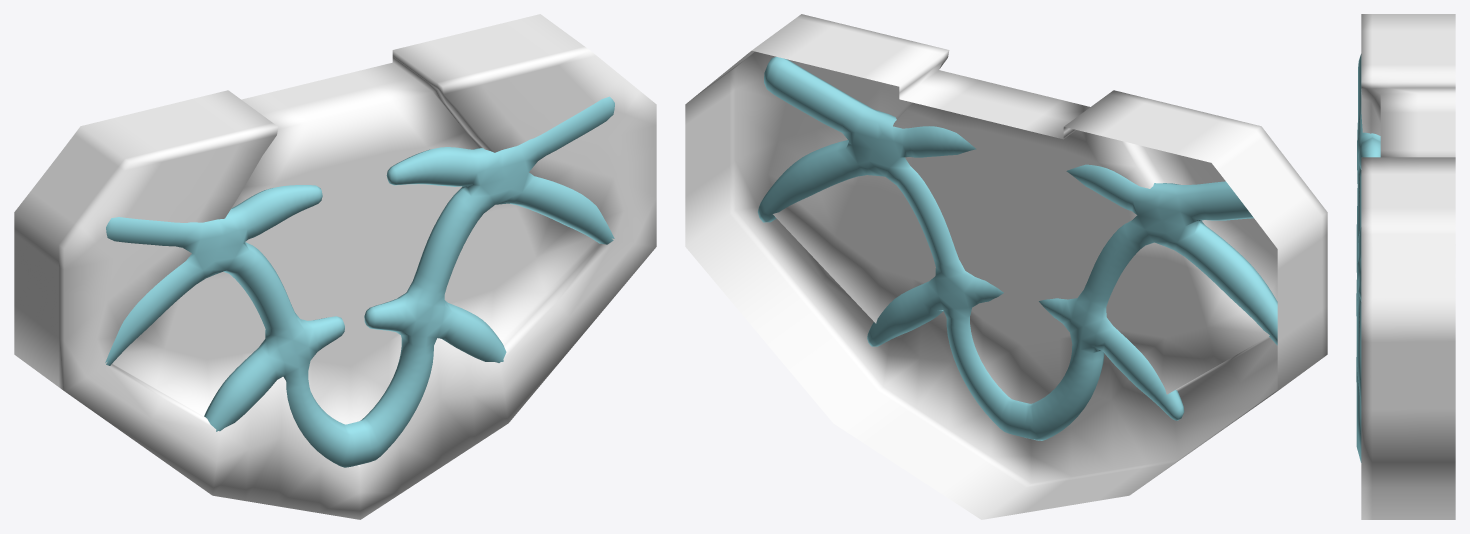
Rendered from WallDecor2.fbx.
The picture shows the model from 3 angles, left to right: view 1: azimuth 30°, elevation 25°; view 2: azimuth 150°, elevation 25°; view 3: azimuth 270°, elevation 25°; orthographic projection. The views are drawn at different scales.
Visible parts, largest first — view 1: Plane.017; view 2: Plane.017; view 3: Plane.017.
Part boxes in pixels (box(x1,y1,x2,y2)): Plane.017: box(14, 14, 656, 519); Plane.017: box(685, 14, 1327, 519); Plane.017: box(1356, 14, 1455, 519).
Size of the model in its own units: 16 by 10.67 by 2.48.
